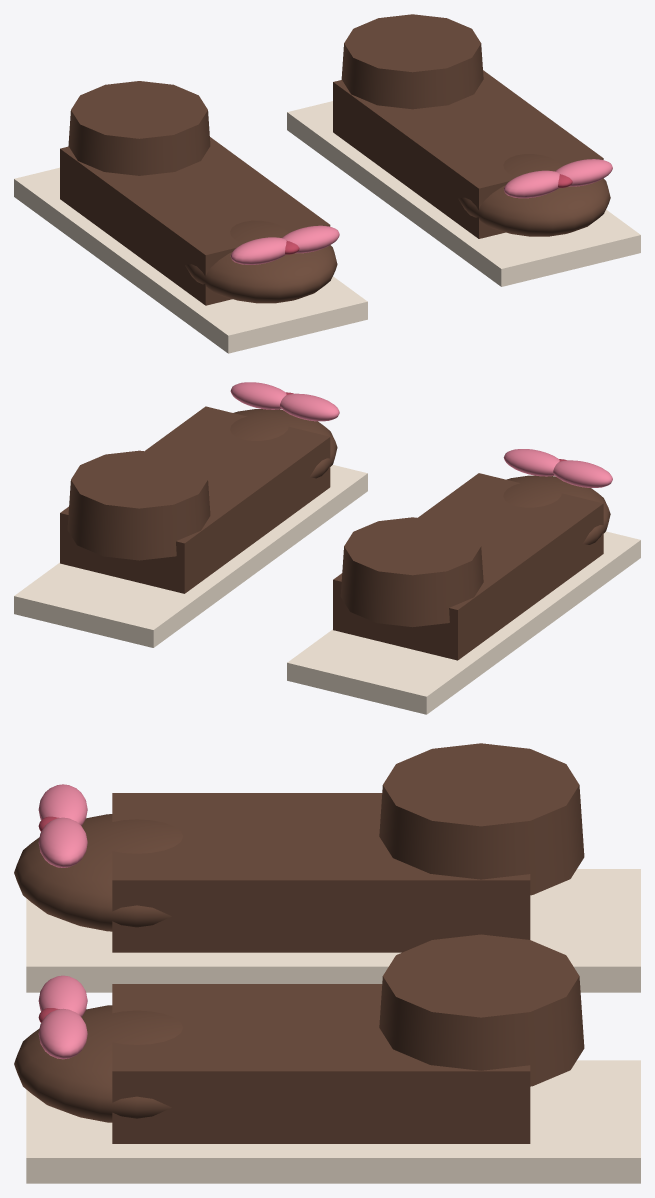
Rendered from shoes_start_f.glb.
3 renders of one model, top to bottom at view 1: azimuth 30°, elevation 25°; view 2: azimuth 150°, elevation 25°; view 3: azimuth 270°, elevation 25°, orthographic. The views are drawn at different scales.
Bounding box in the file's own units: 0.3114 × 0.0798 × 0.2856.
